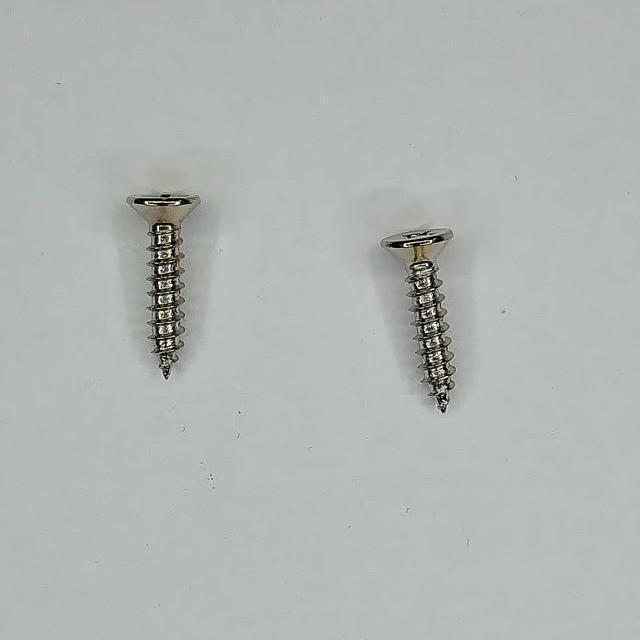Screw: (126, 194, 201, 380), (381, 228, 456, 414)
